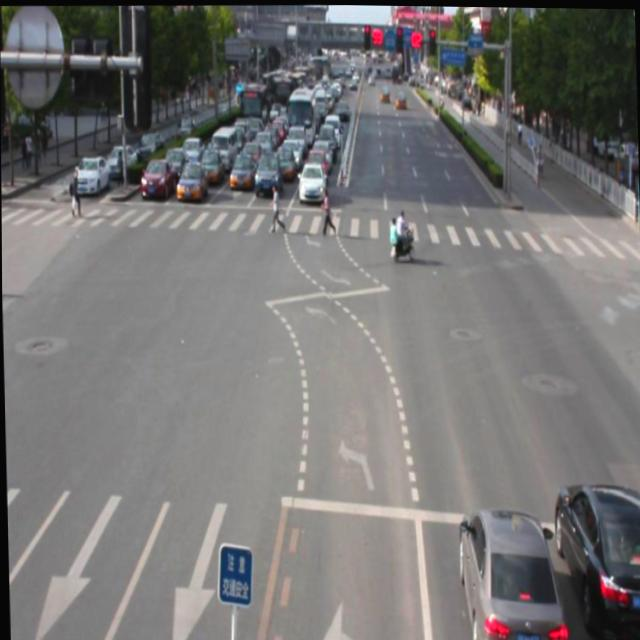car: (456, 503, 562, 640), (549, 478, 640, 633)
